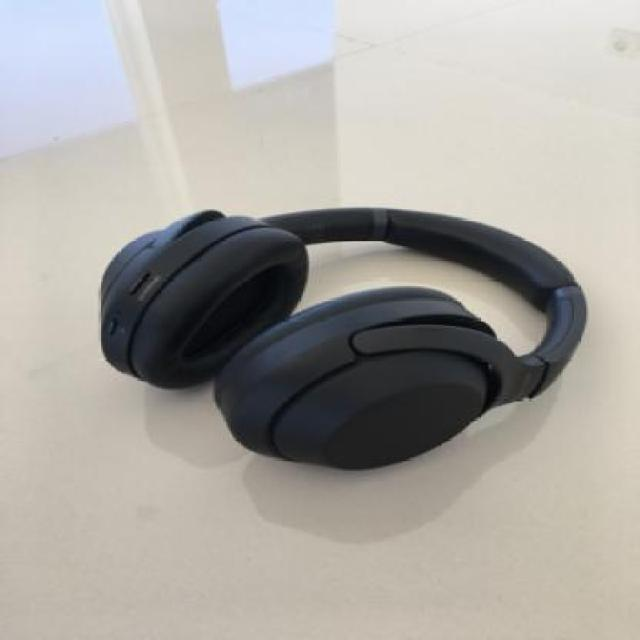earphone: (67, 138, 620, 527)
